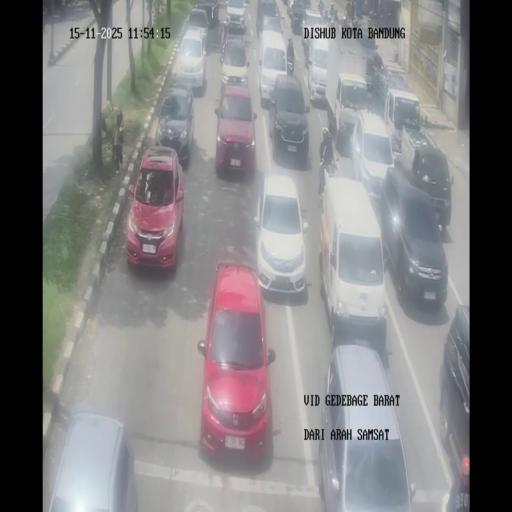3: (324, 21, 380, 143)
car: (318, 345, 414, 509), (319, 174, 386, 346), (380, 170, 448, 308), (47, 412, 136, 510), (126, 146, 185, 270), (254, 170, 306, 298), (439, 307, 470, 485), (351, 110, 397, 199), (214, 83, 257, 177), (153, 83, 195, 165), (258, 30, 288, 106), (176, 26, 207, 94), (220, 34, 250, 90), (307, 41, 331, 104), (301, 8, 326, 53), (225, 0, 248, 33), (194, 0, 219, 28), (364, 52, 379, 94), (261, 14, 282, 42)
truck: (288, 0, 296, 28), (328, 4, 337, 24), (342, 10, 350, 29), (322, 7, 330, 22), (287, 56, 293, 75), (317, 0, 324, 15)
